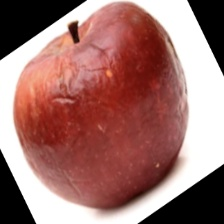apple: (0, 29, 187, 224)
